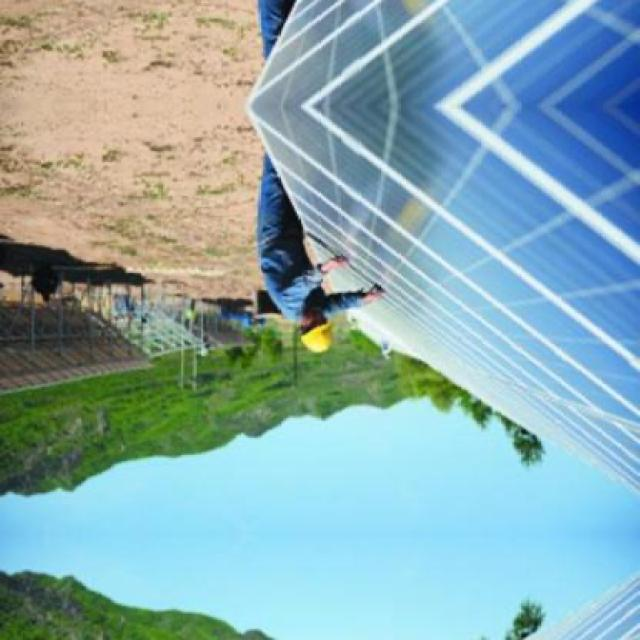con casco: (254, 280, 344, 385)
